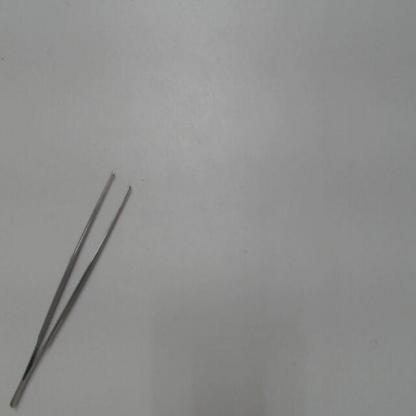Gillies Toothed Dissector: (6, 164, 143, 413)
